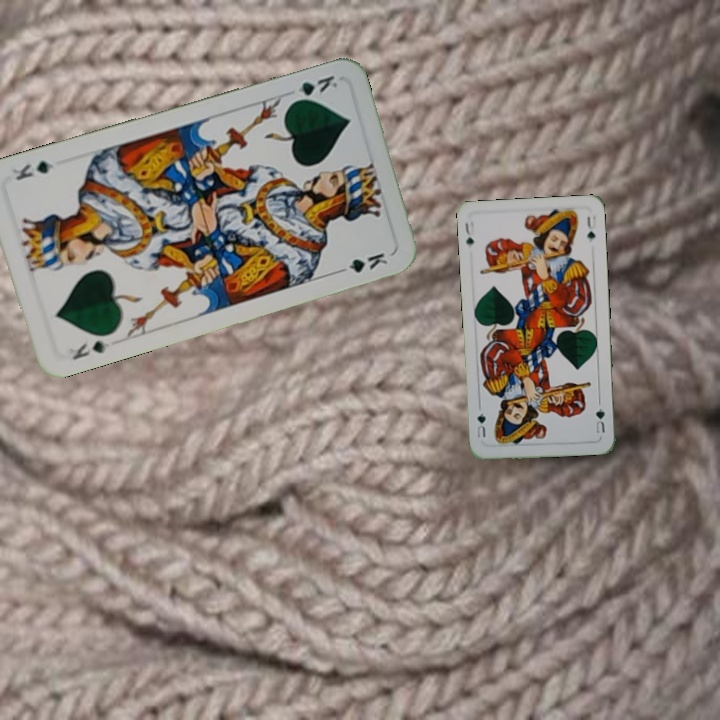GK: (286, 71, 340, 106), (68, 336, 112, 363)
GU: (591, 398, 607, 436), (461, 217, 477, 248)
